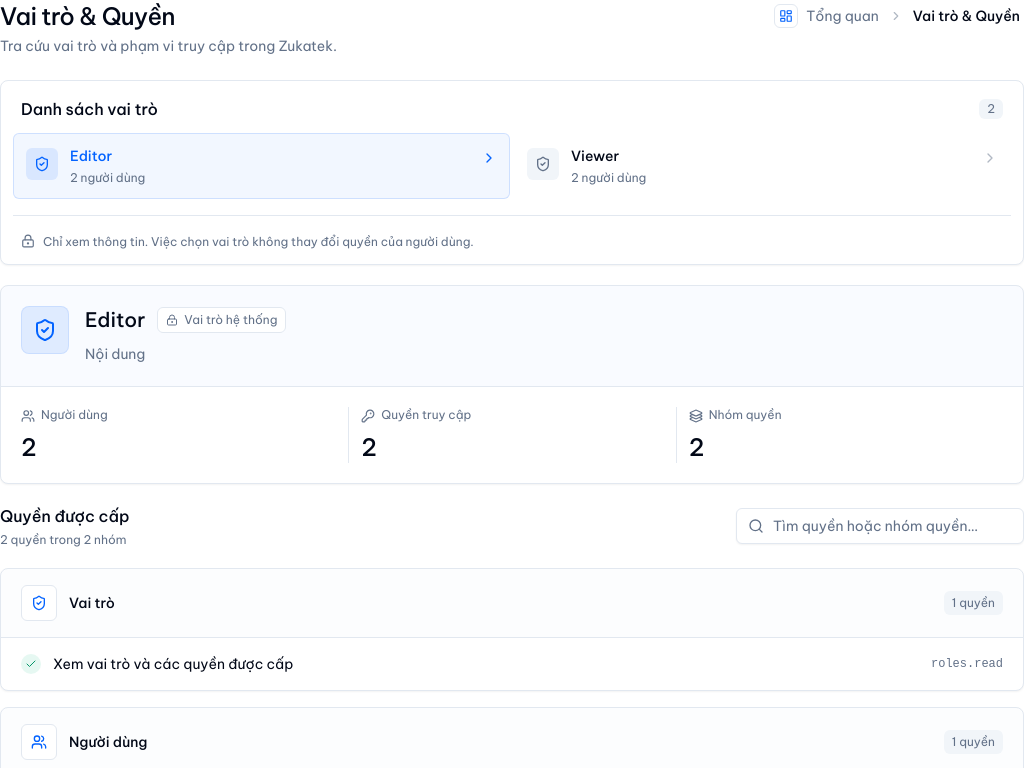
Scenario: RolePermissions › clears permission search when switching roles and renders the new role's rights
The width and height of the screenshot is (1024, 768).
Expected: the text "roles.read" is shown, [931, 657, 1003, 671]
Type "roles.read" into the field labelled "Tìm quyền hoặc nhóm quyền…" at (880,526), box [736, 508, 1023, 544]
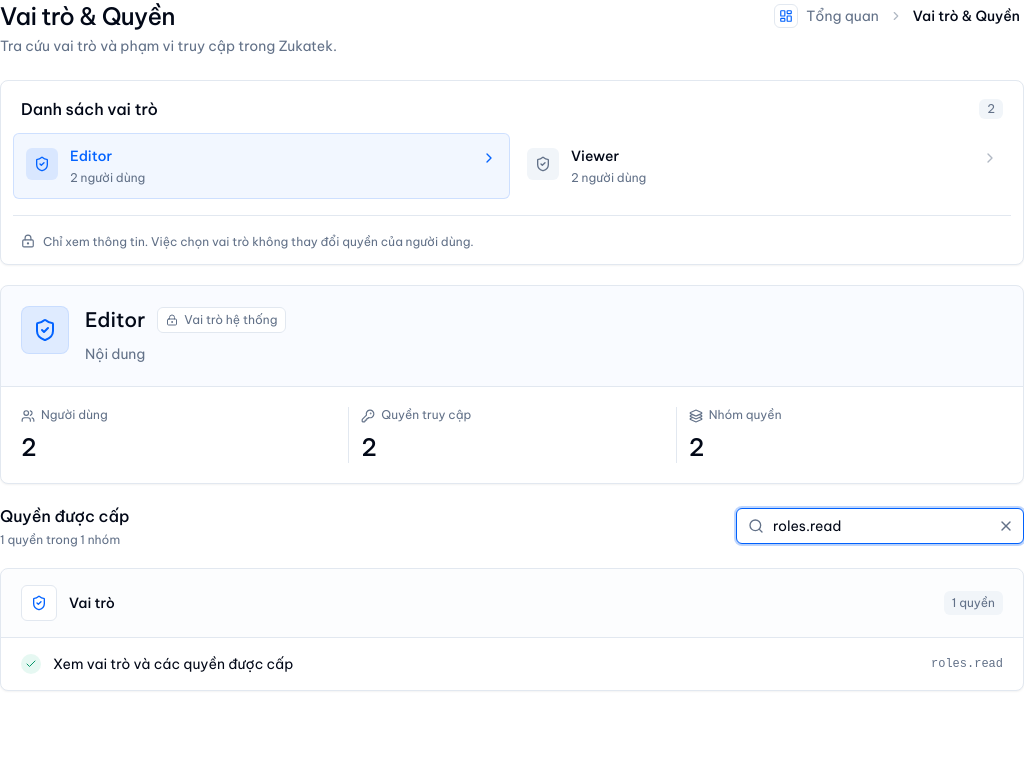
Click the button "Viewer 2 người dùng" at (543,164), box [514, 133, 1011, 199]
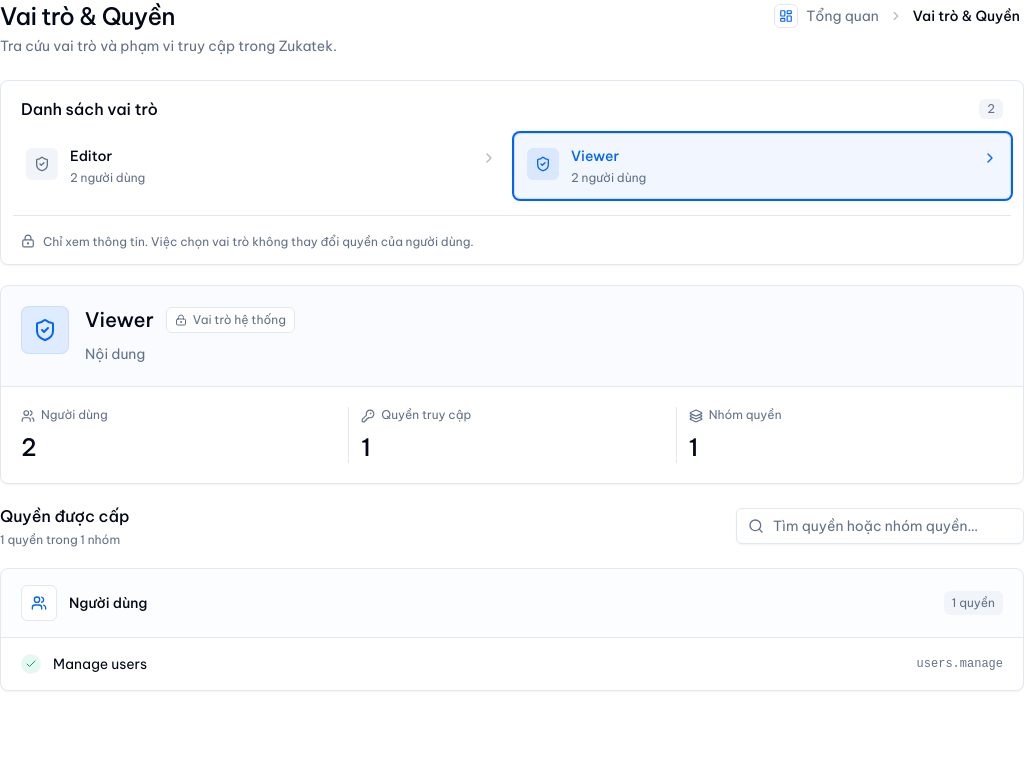
Now the text "users.manage" is shown, box [917, 657, 1003, 671]
Now the field labelled "Tìm quyền hoặc nhóm quyền…" is empty, box [736, 508, 1023, 544]
Now the text "roles.read" is gone
